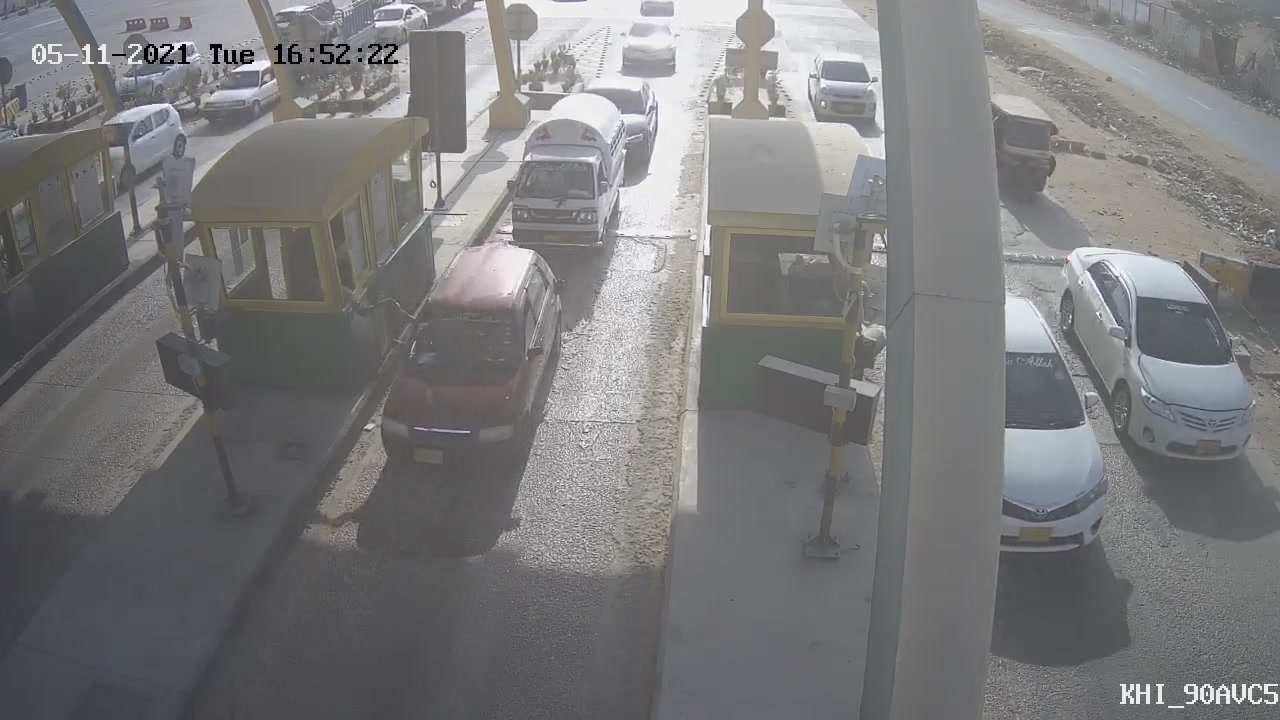F1: (364, 244, 560, 474), (487, 82, 637, 266)
